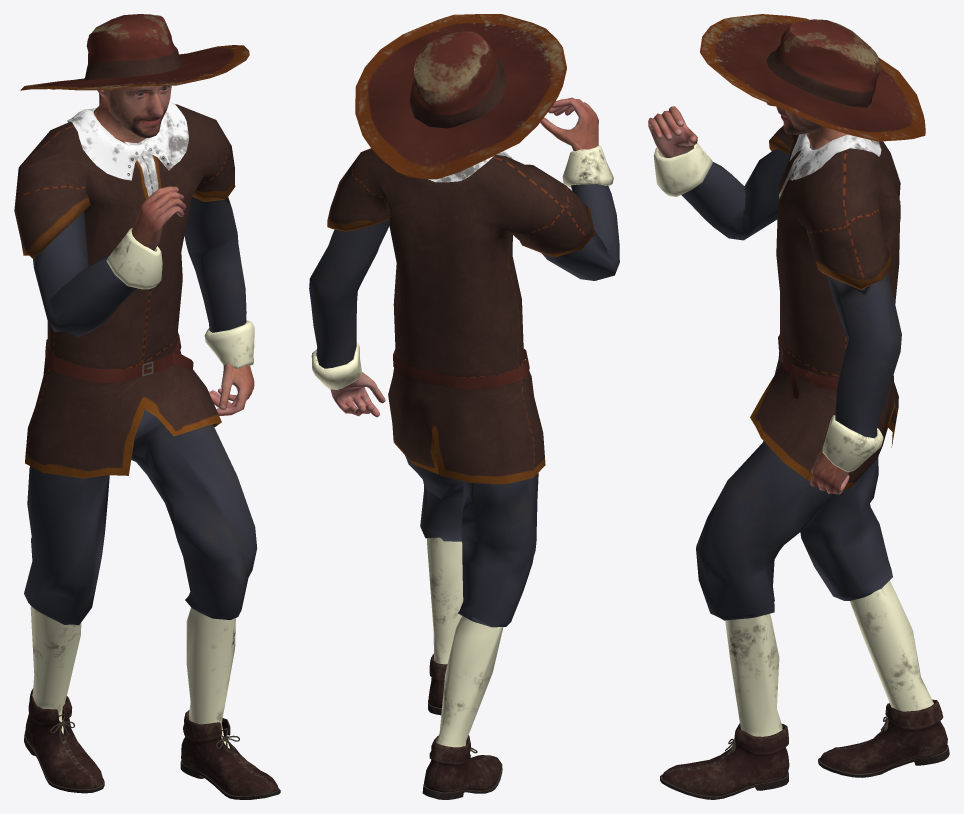
Rendered from Walking1SoldierSample.fbx.
3 views of the same model, side by side, from view 1: azimuth 30°, elevation 25°; view 2: azimuth 150°, elevation 25°; view 3: azimuth 270°, elevation 25° (orthographic). The views are drawn at different scales.
Visible parts, largest first — view 1: Walking1SoldierLOD0; view 2: Walking1SoldierLOD0; view 3: Walking1SoldierLOD0.
Boxes of the visible parts, bbox=[...] form: Walking1SoldierLOD0: bbox=[14, 14, 280, 799]; Walking1SoldierLOD0: bbox=[309, 14, 619, 799]; Walking1SoldierLOD0: bbox=[648, 14, 949, 799].
Size of what is drawn, in the model's own units: 66.9 by 186 by 66.57.
